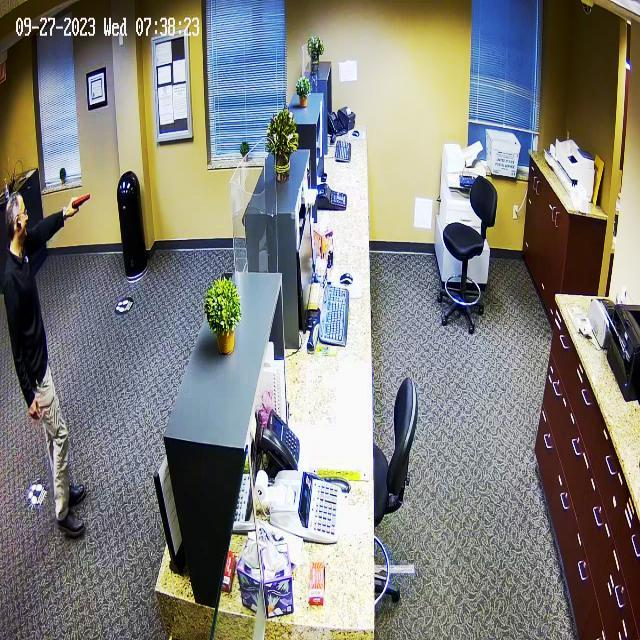Gun: (68, 182, 101, 218)
